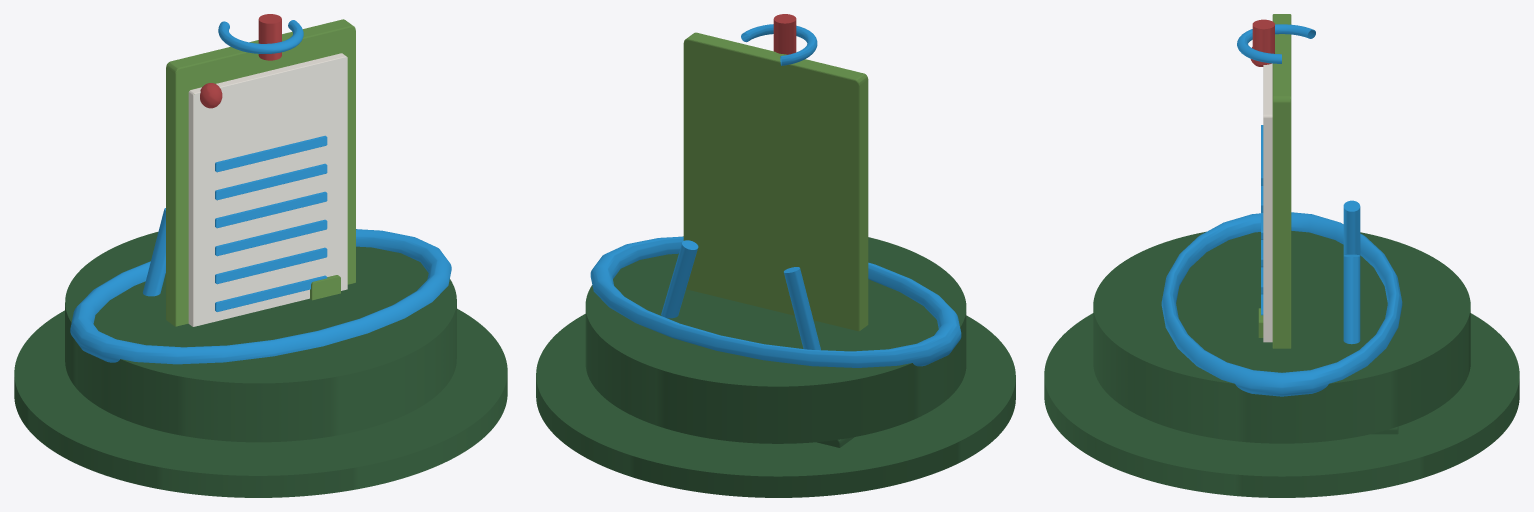
File: 0382_欧洲文明图鉴_埃布斯托夫地图.glb
The picture shows the model from 3 angles, left to right: view 1: azimuth 30°, elevation 25°; view 2: azimuth 150°, elevation 25°; view 3: azimuth 270°, elevation 25°; orthographic projection. The views are drawn at different scales.
Visible parts, largest first — view 1: card_0382; view 2: card_0382; view 3: card_0382.
Part boxes in pixels (x1=…): card_0382: x1=14, y1=14, x2=507, y2=497; card_0382: x1=536, y1=14, x2=1015, y2=497; card_0382: x1=1044, y1=14, x2=1519, y2=497.
Bounding box in the file's own units: 1.17 × 1 × 1.16.
